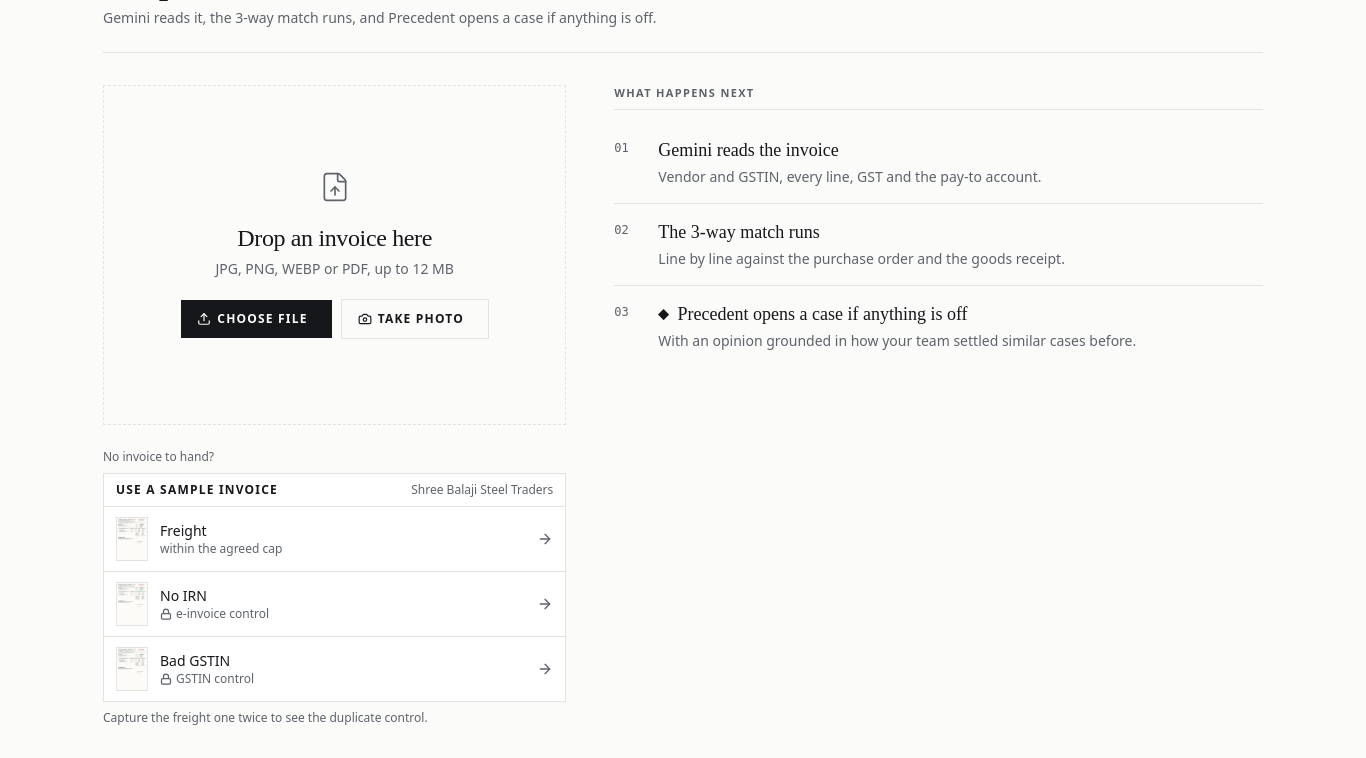
Scenario: CapturePage › says so when a sample can’t be loaded
(page scrolled)
Click the button with aria-label "Bad GSTIN · GSTIN control" at (132, 669), box [104,637,565,701]
(page scrolled)
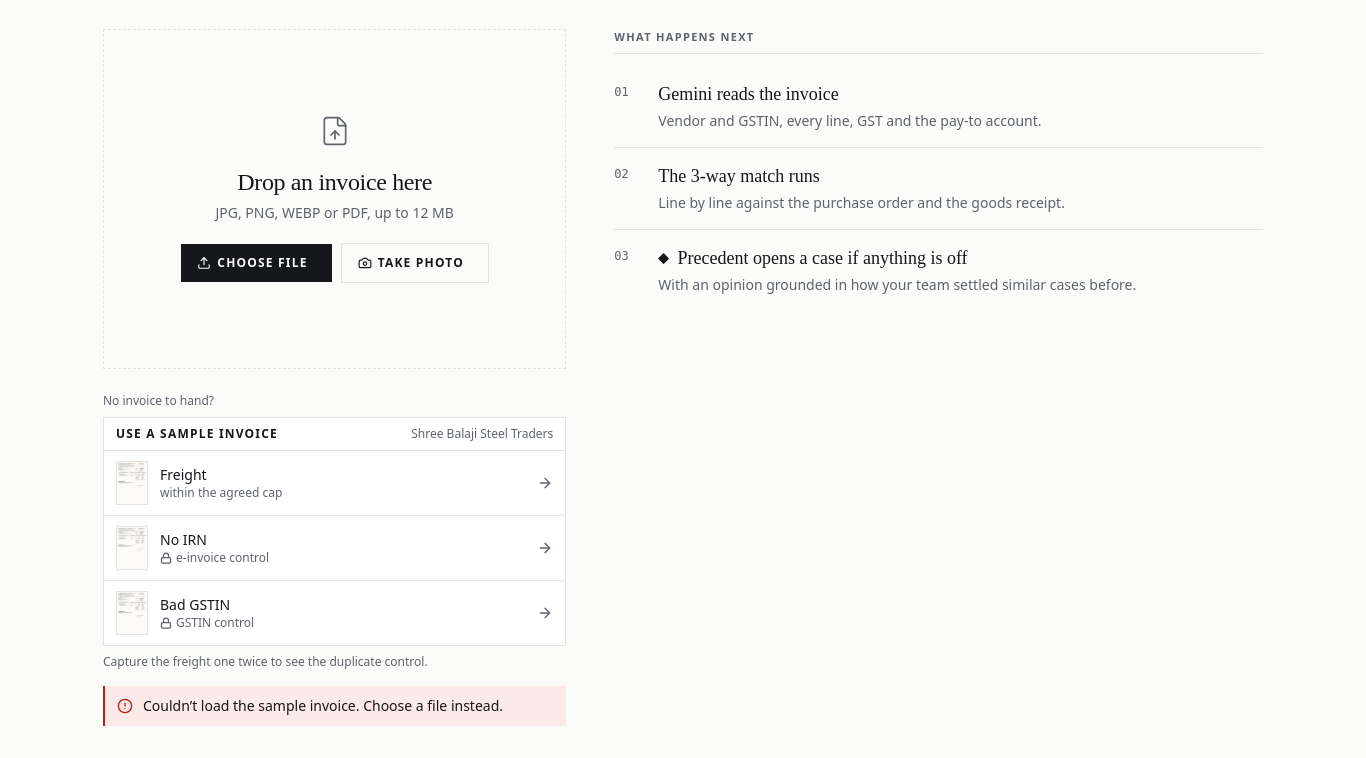
Expected: the message reads "Couldn’t load the sample invoice. Choose a file instead.", [143,696,503,715]
